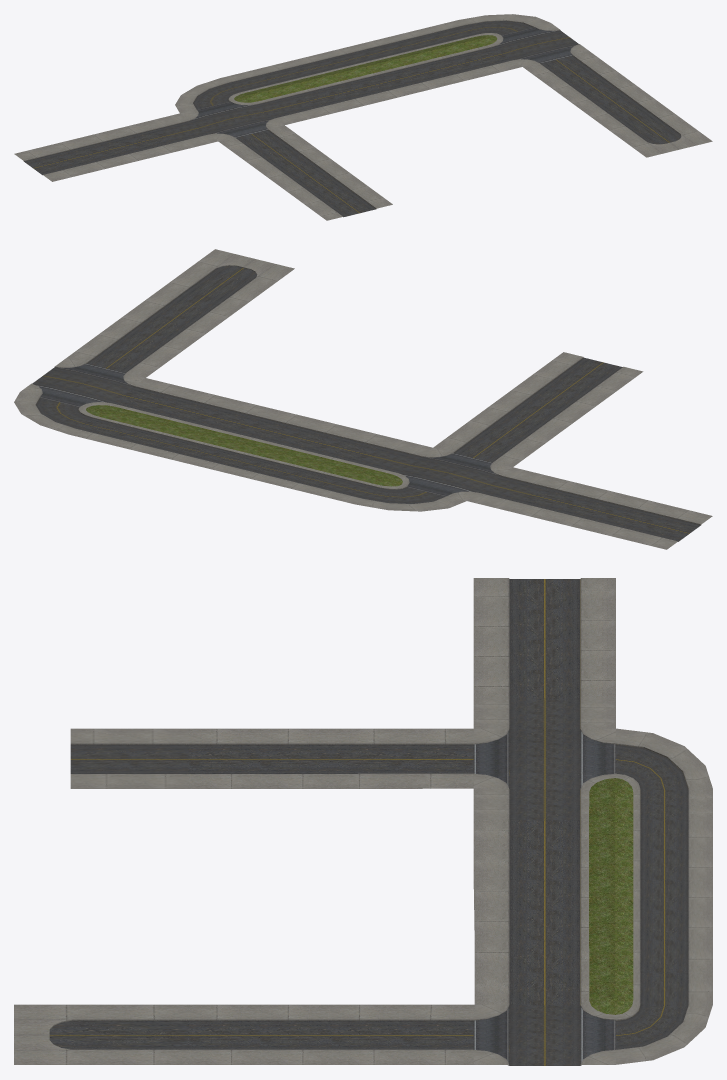
File: vegasnroad45.obj
3 views of the same model, one above another, from view 1: azimuth 30°, elevation 25°; view 2: azimuth 150°, elevation 25°; view 3: azimuth 270°, elevation 25° (orthographic). The views are drawn at different scales.
Parts seen in each view (by area): view 1: vegasNroad45; view 2: vegasNroad45; view 3: vegasNroad45.
Boxes of the visible parts, left/top/right/bottom form: vegasNroad45: left=14, top=14, right=712, bottom=220; vegasNroad45: left=14, top=249, right=712, bottom=549; vegasNroad45: left=14, top=578, right=712, bottom=1065.
Bounding box in the file's own units: 162 × 0.6368 × 98.12.
Materials: 4 (4 with a texture image).
